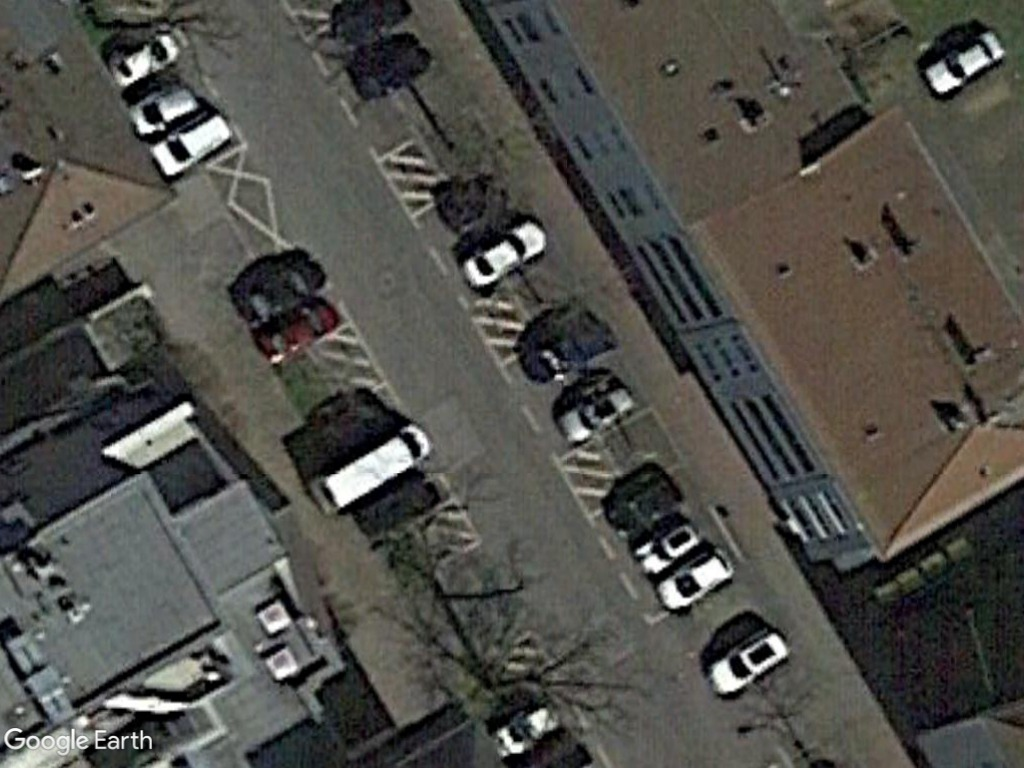car: (458, 215, 550, 293), (701, 628, 792, 701), (650, 543, 739, 617), (918, 28, 1008, 100), (106, 29, 184, 91)
van: (310, 420, 434, 519), (147, 106, 232, 181)
